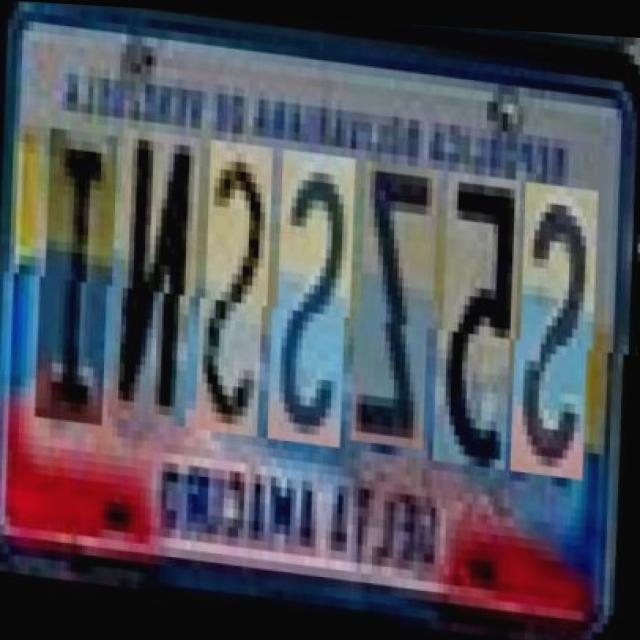5: (435, 168, 517, 467)
i: (39, 136, 114, 434)
n: (111, 134, 198, 433)
s: (513, 176, 595, 475), (270, 151, 352, 449), (198, 143, 270, 442)
z: (354, 158, 434, 449)
